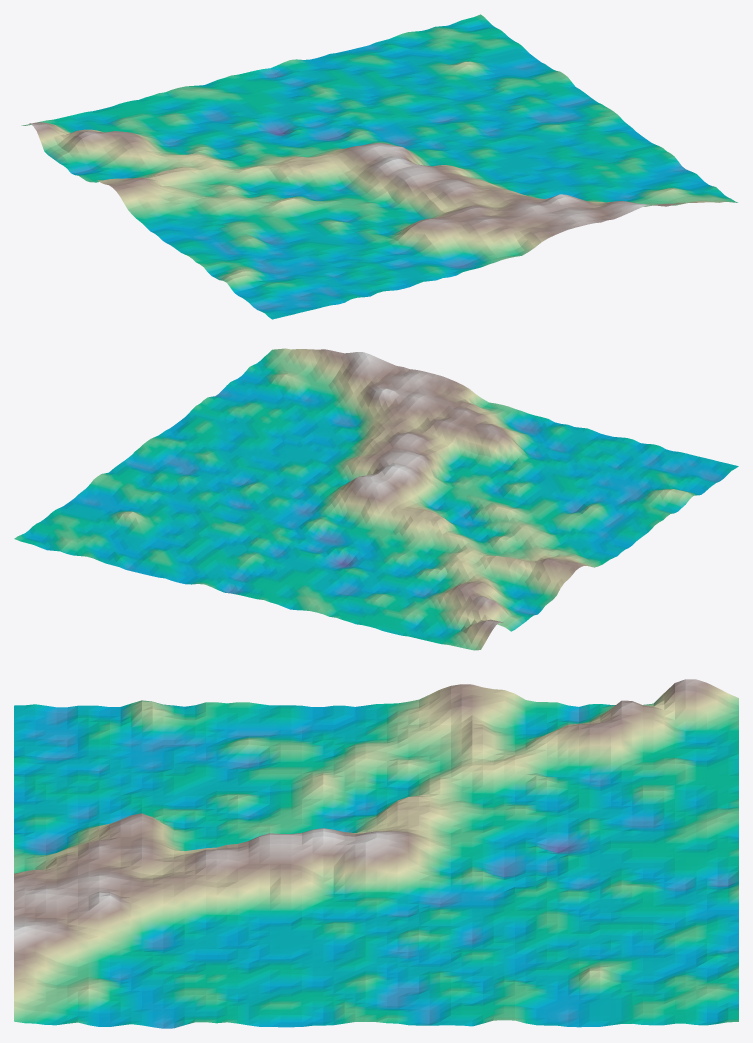
The model's file is 000004_terrain_only.glb.
The picture shows the model from 3 angles, top to bottom: view 1: azimuth 30°, elevation 25°; view 2: azimuth 150°, elevation 25°; view 3: azimuth 270°, elevation 25°; orthographic projection. The views are drawn at different scales.
Parts seen in each view (by area): view 1: terrain; view 2: terrain; view 3: terrain.
Part boxes in pixels (x1=…): terrain: x1=21, y1=14, x2=737, y2=319; terrain: x1=14, y1=348, x2=738, y2=650; terrain: x1=14, y1=679, x2=738, y2=1028.
Size of the model in its own units: 0.0191 by 0.00109 by 0.0183.
